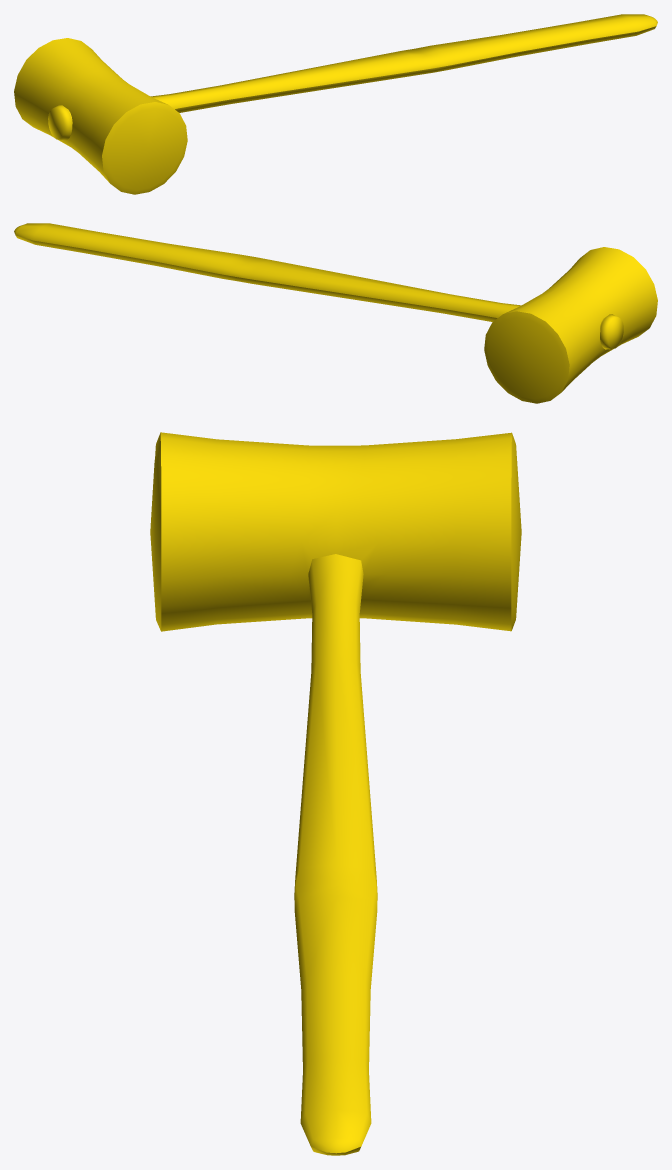
The model's file is SM_Bone_Mallet_5.FBX.
The picture shows the model from 3 angles, top to bottom: view 1: azimuth 30°, elevation 25°; view 2: azimuth 150°, elevation 25°; view 3: azimuth 270°, elevation 25°; orthographic projection. The views are drawn at different scales.
Visible parts, largest first — view 1: Bone_Mallet_5; view 2: Bone_Mallet_5; view 3: Bone_Mallet_5.
Part boxes in pixels (<box>): Bone_Mallet_5: <box>14,14,657,194</box>; Bone_Mallet_5: <box>14,223,657,403</box>; Bone_Mallet_5: <box>150,432,521,1155</box>.
Size of the model in its own units: 22.12 by 3.16 by 5.91.
